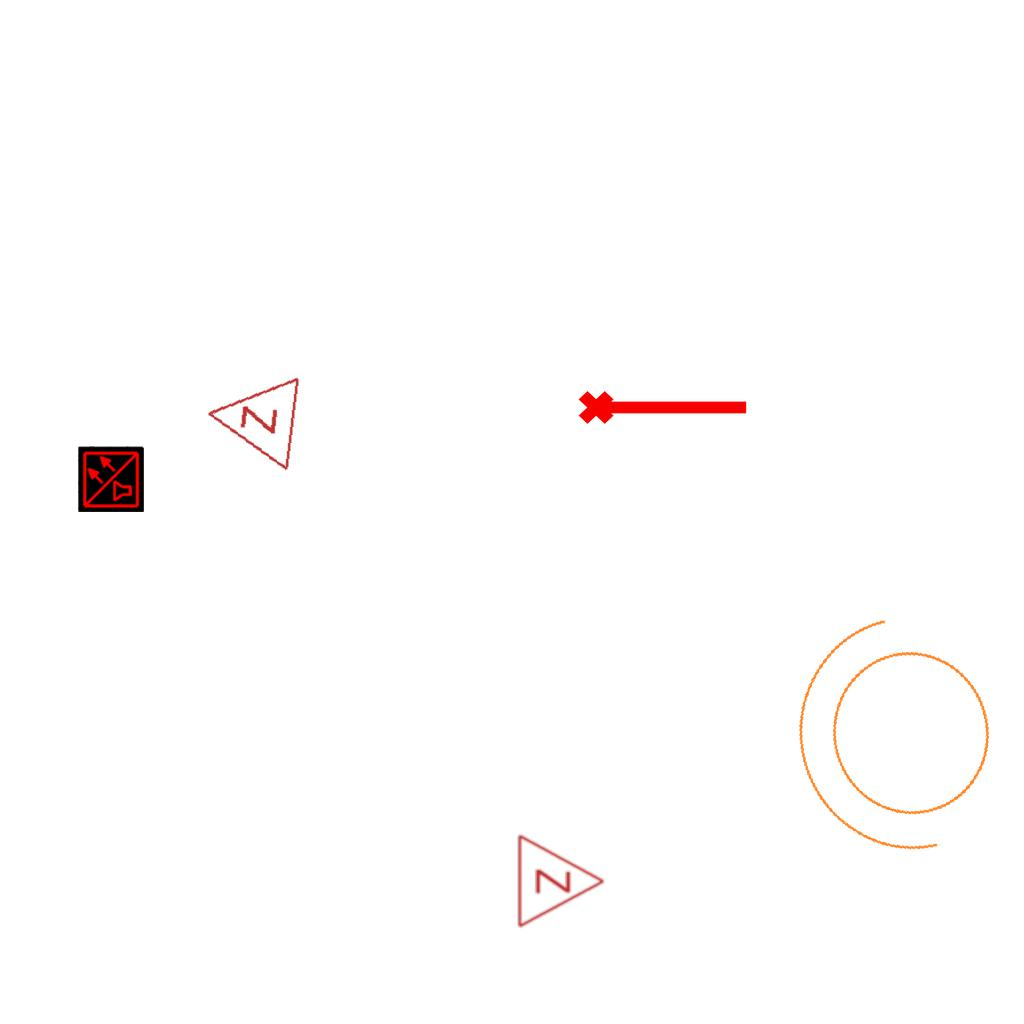ASR_Ansaugoeffnung: (576, 382, 752, 428)
OKW_Multisensormelder_(Kombination_optischer_Rauch-Kahlenmonoxid_Waerme-Melder): (78, 446, 144, 512)
Scheinwerfer_fuer_Alarmbeleuchtung: (763, 587, 1024, 896)
Zimmersignalleuchte: (195, 365, 307, 475), (511, 831, 611, 929)
